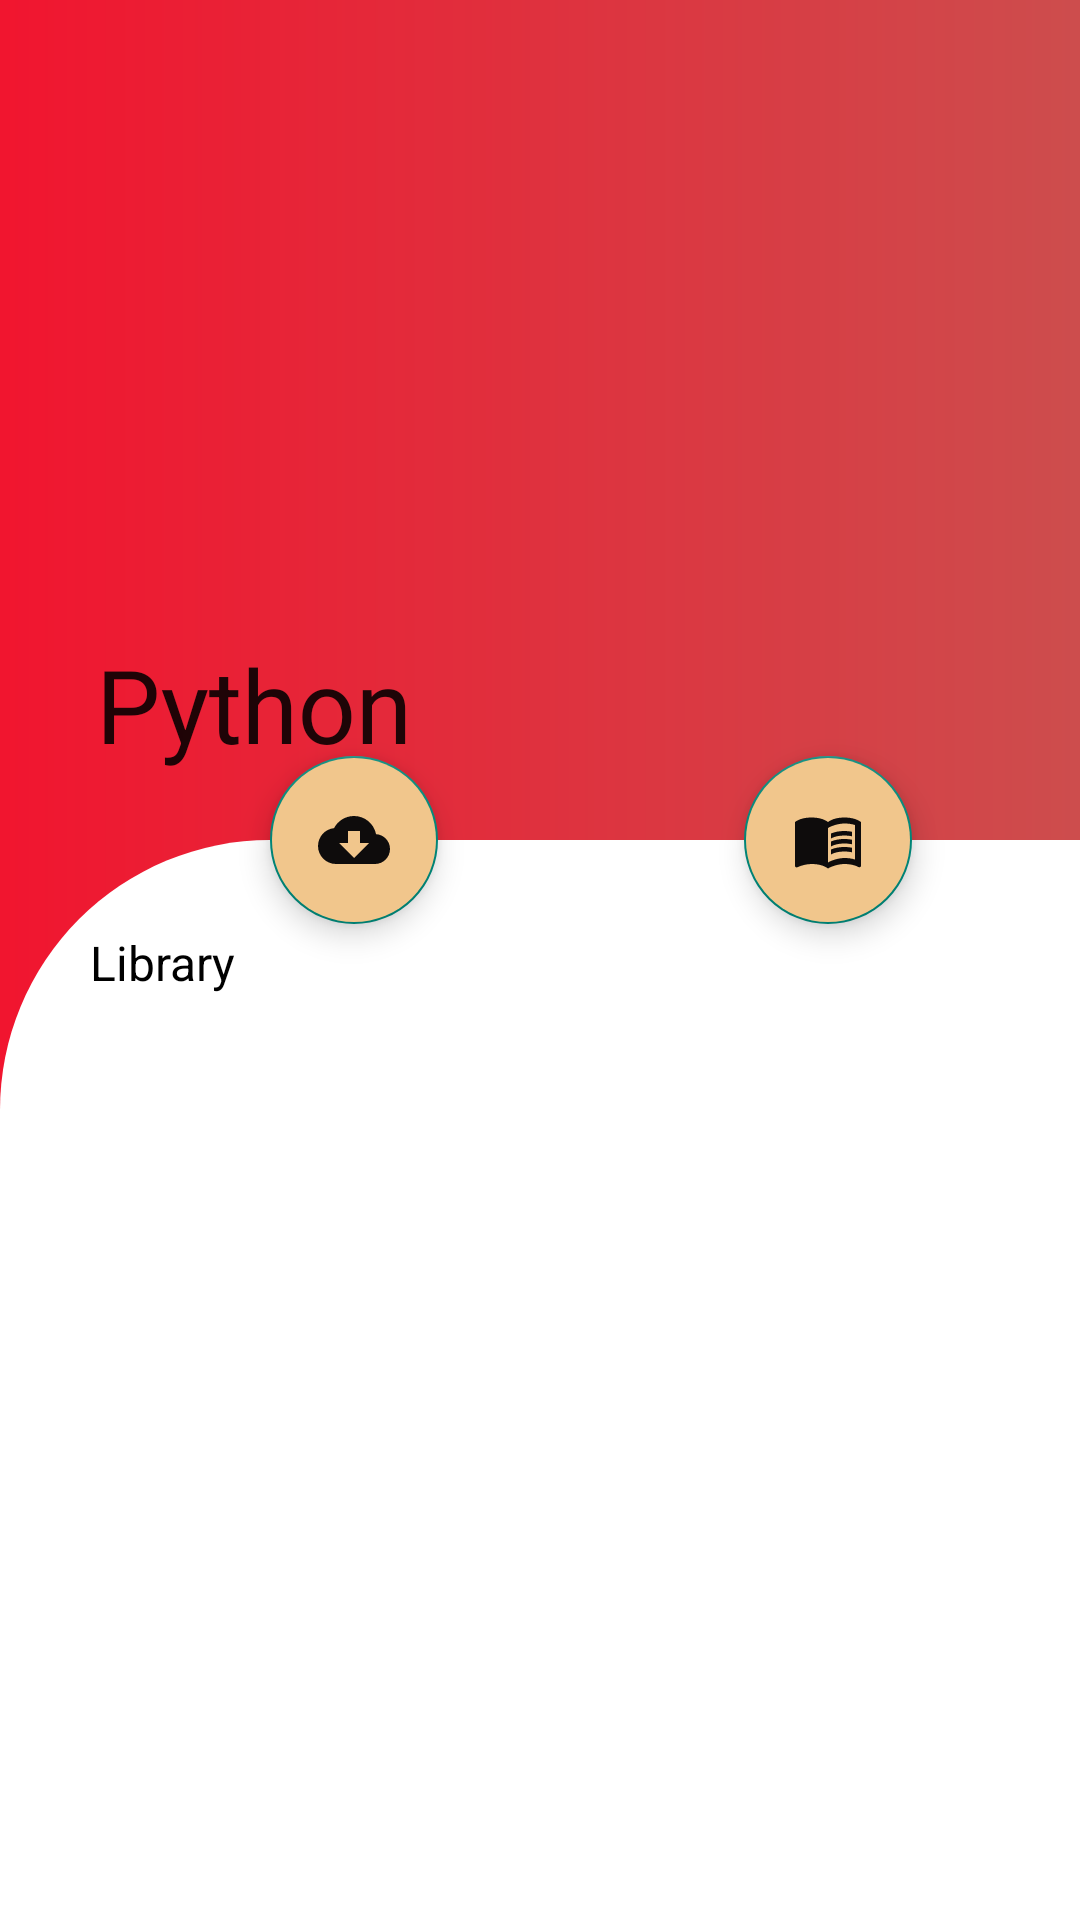

Screen size 1080px×1920px. Icon name, then its center in pixels as (x,y):
bookblack: (828,840)
cloud download: (354,840)
